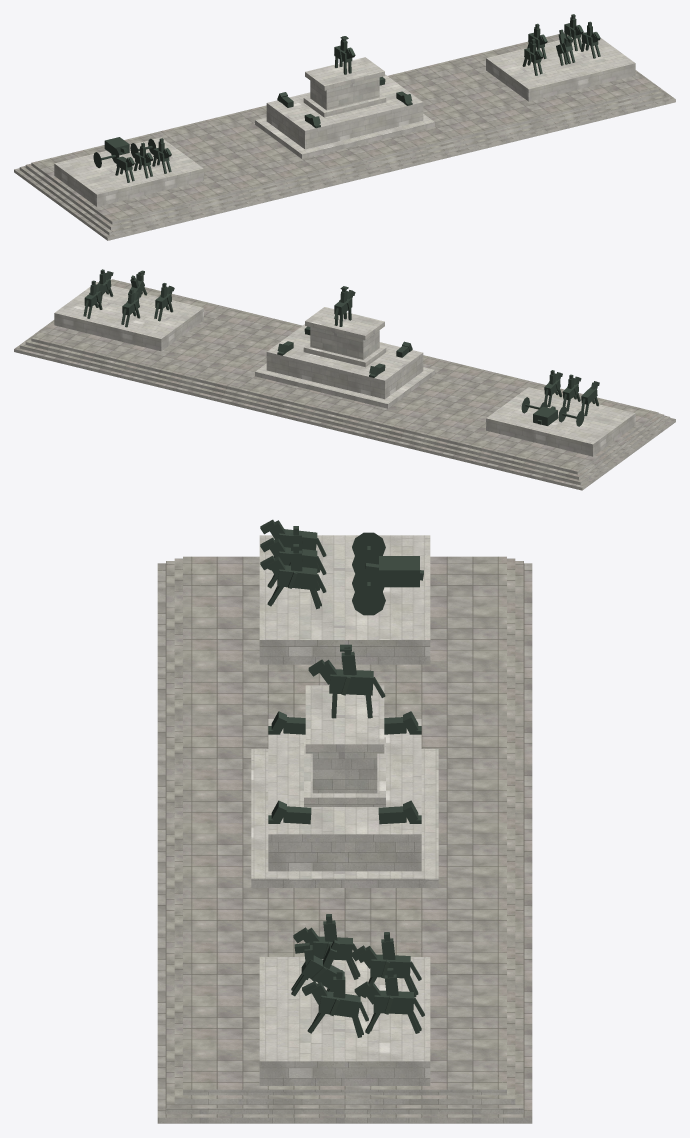
The model's file is grant_memorial.glb.
3 renders of one model, top to bottom at view 1: azimuth 30°, elevation 25°; view 2: azimuth 150°, elevation 25°; view 3: azimuth 270°, elevation 25°, orthographic. The views are drawn at different scales.
Parts seen in each view (by area): view 1: grant_memorial; view 2: grant_memorial; view 3: grant_memorial.
Boxes of the visible parts, <box> form: grant_memorial: <box>14,14,675,240</box>; grant_memorial: <box>14,269,675,490</box>; grant_memorial: <box>157,519,532,1123</box>.
Size of the model in its own units: 77 by 12.96 by 22.
Materials: 3 (3 with a texture image).
